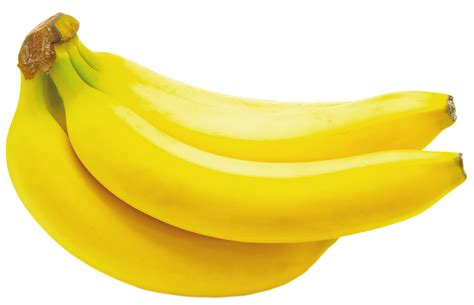???: (5, 12, 468, 298)
